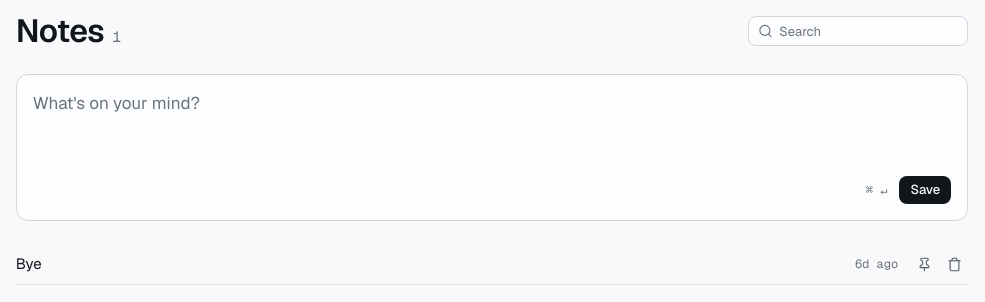
Test: NotesBoard › delete removes the card
What coordinates should you click on to do the following:
click the button named "Delete"
I would click on:
 (954, 264)
Its box is top-left (940, 250), bottom-right (968, 278).
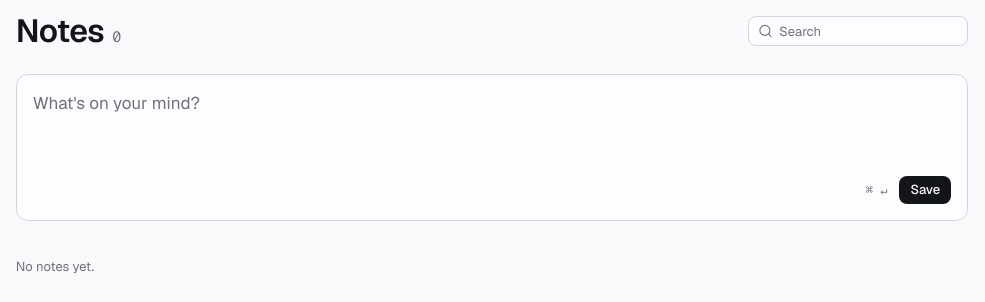
Expected: the button "Bye" is gone
